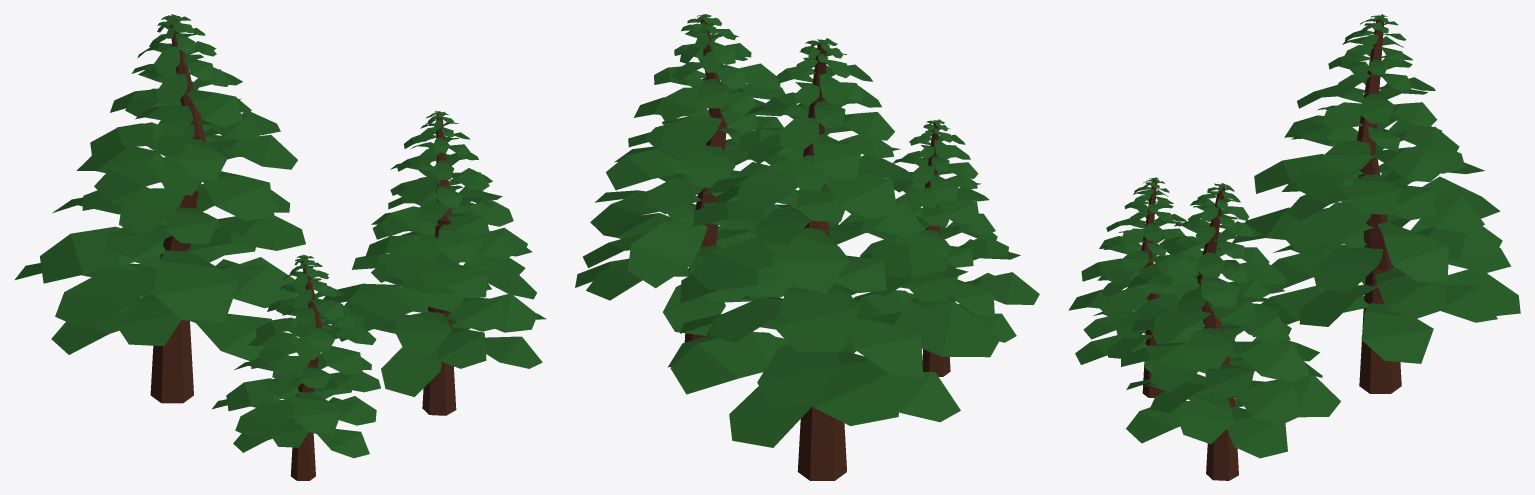
The model's file is forest_full.fbx.
3 views of the same model, side by side, from view 1: azimuth 30°, elevation 25°; view 2: azimuth 150°, elevation 25°; view 3: azimuth 270°, elevation 25° (orthographic). The views are drawn at different scales.
Parts seen in each view (by area): view 1: forest_full; view 2: forest_full; view 3: forest_full.
Boxes of the visible parts, x1,y1,x2,y2 form: forest_full: (14,14,546,480); forest_full: (575,14,1039,480); forest_full: (1068,14,1520,480).
Bounding box in the file's own units: 698 × 613 × 680.
